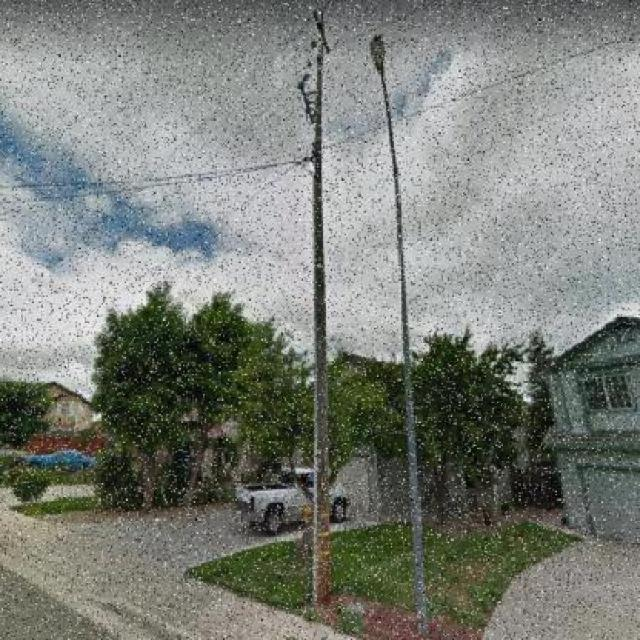pole: (271, 2, 354, 626)
